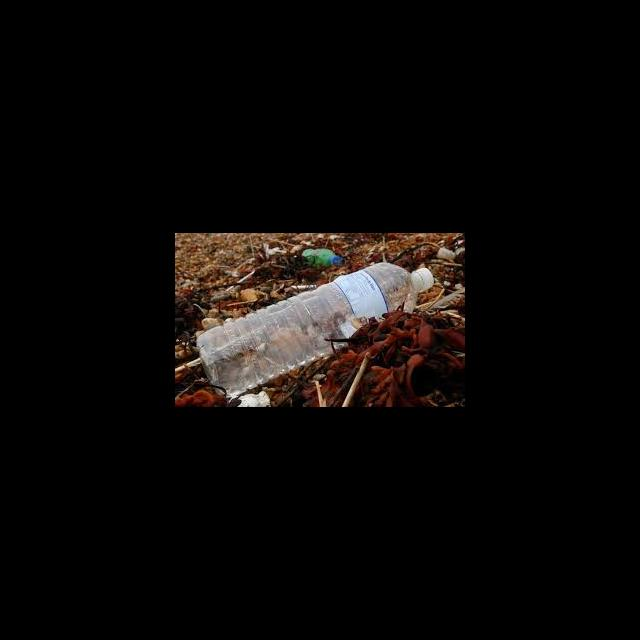plastic: (195, 261, 434, 397), (333, 268, 388, 327), (301, 247, 343, 267), (413, 266, 432, 291), (331, 256, 341, 265)
